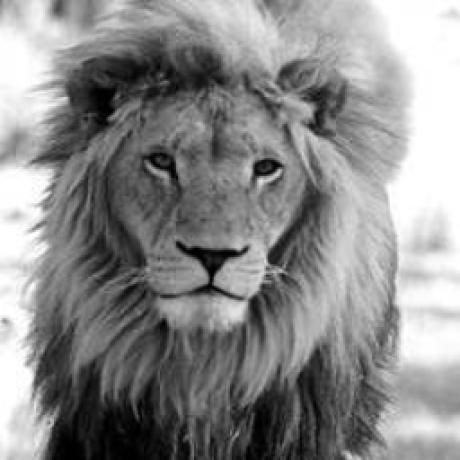Lion: (30, 0, 404, 460)
